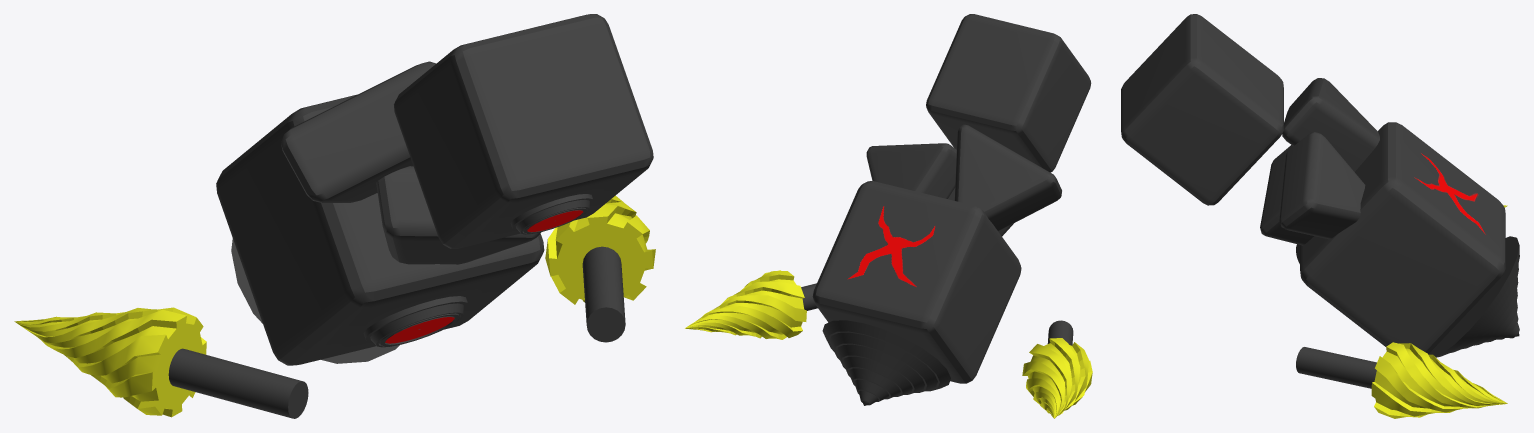
File: Boss12.fbx
3 views of the same model, side by side, from view 1: azimuth 30°, elevation 25°; view 2: azimuth 150°, elevation 25°; view 3: azimuth 270°, elevation 25° (orthographic). The views are drawn at different scales.
Parts seen in each view (by area): view 1: polySurface1; view 2: polySurface1; view 3: polySurface1.
Part boxes in pixels (left/top/right/bottom): polySurface1: left=14, top=14, right=655, bottom=418; polySurface1: left=685, top=14, right=1092, bottom=418; polySurface1: left=1121, top=14, right=1519, bottom=418.
Size of the model in its own units: 57.61 by 42.53 by 49.
